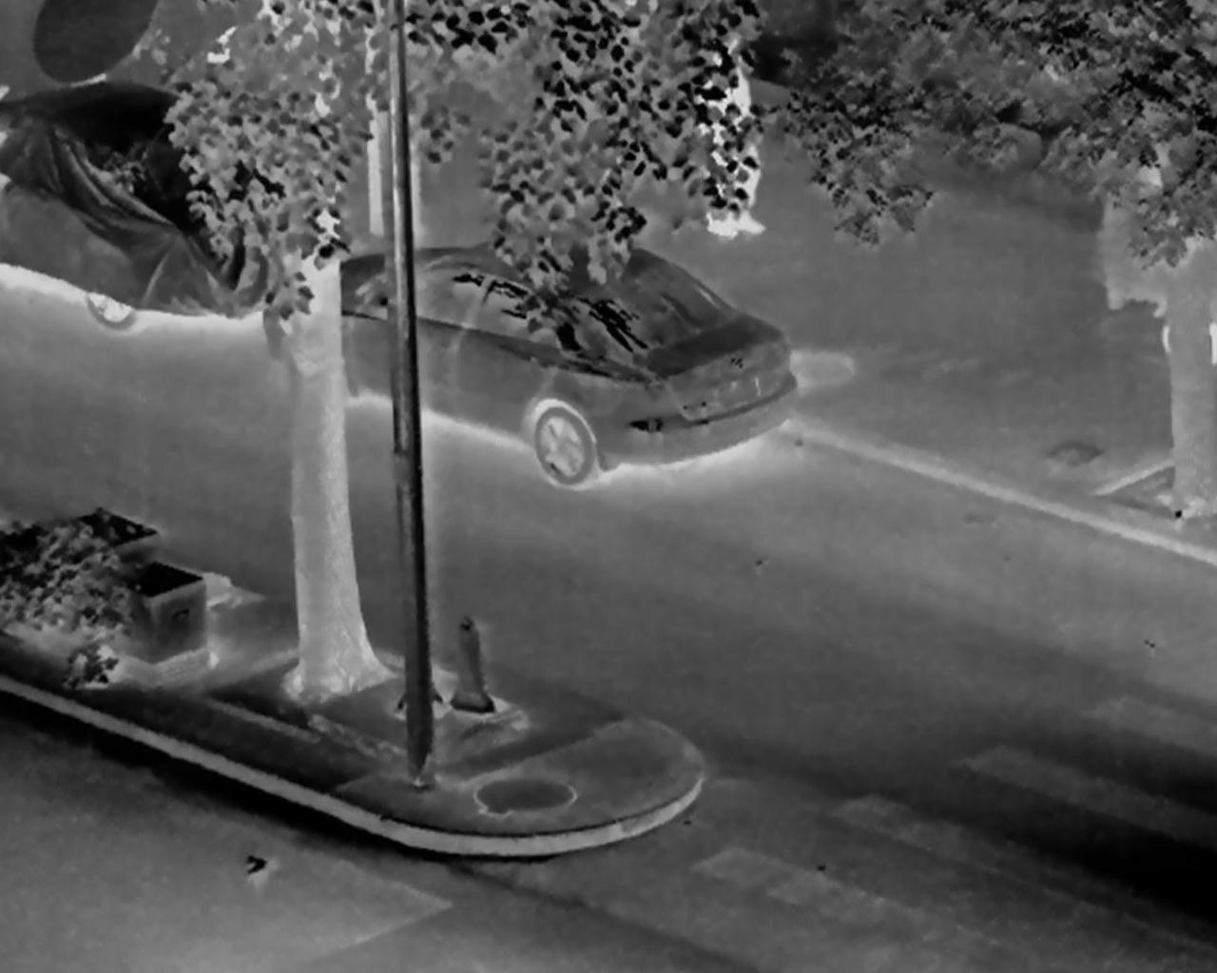person: (688, 20, 773, 240)
